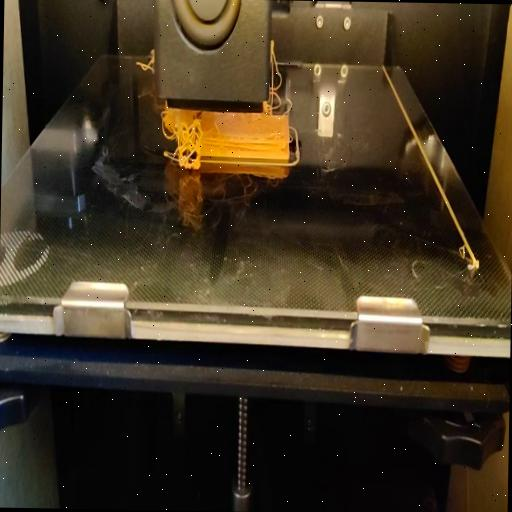spaghetti: (164, 110, 206, 168), (266, 43, 290, 135), (136, 46, 156, 67)
